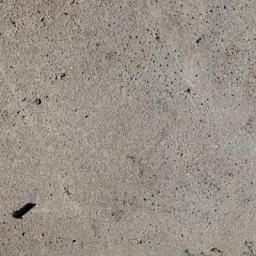FOD: (12, 202, 45, 222)
